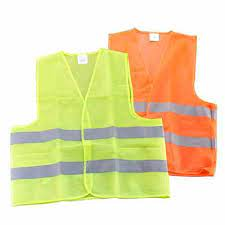jacket: (14, 23, 169, 208), (111, 16, 204, 207)
